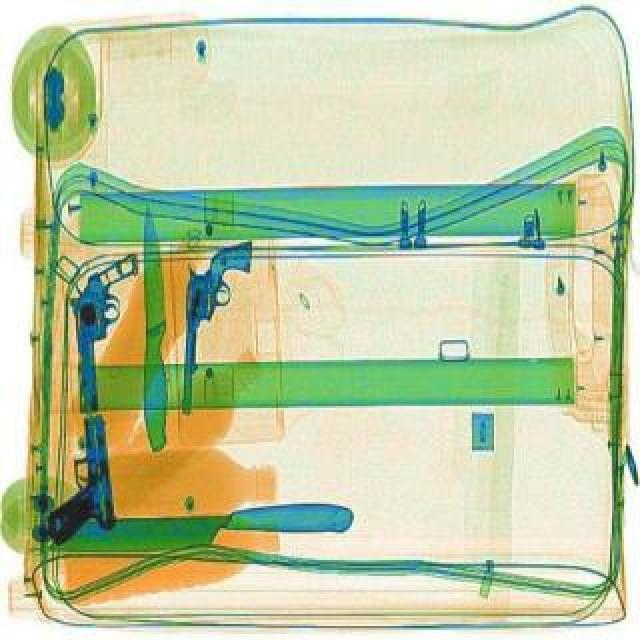gun: (64, 250, 142, 414), (180, 238, 252, 414), (30, 414, 118, 546)
knife: (46, 498, 354, 556), (132, 202, 170, 450)
